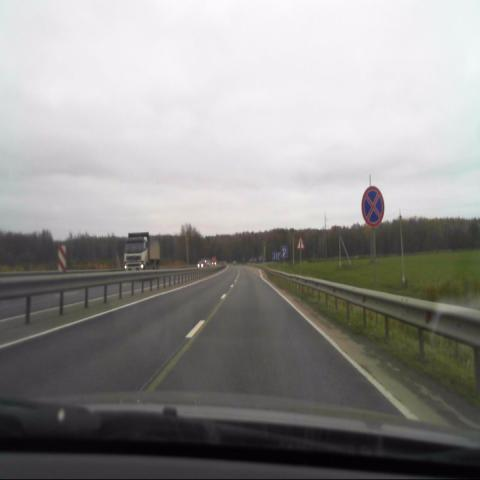2_3_2: (296, 238, 304, 249)
3_27: (361, 186, 385, 228)
5_15_1: (271, 250, 281, 261)
5_15_3: (280, 245, 288, 258)
